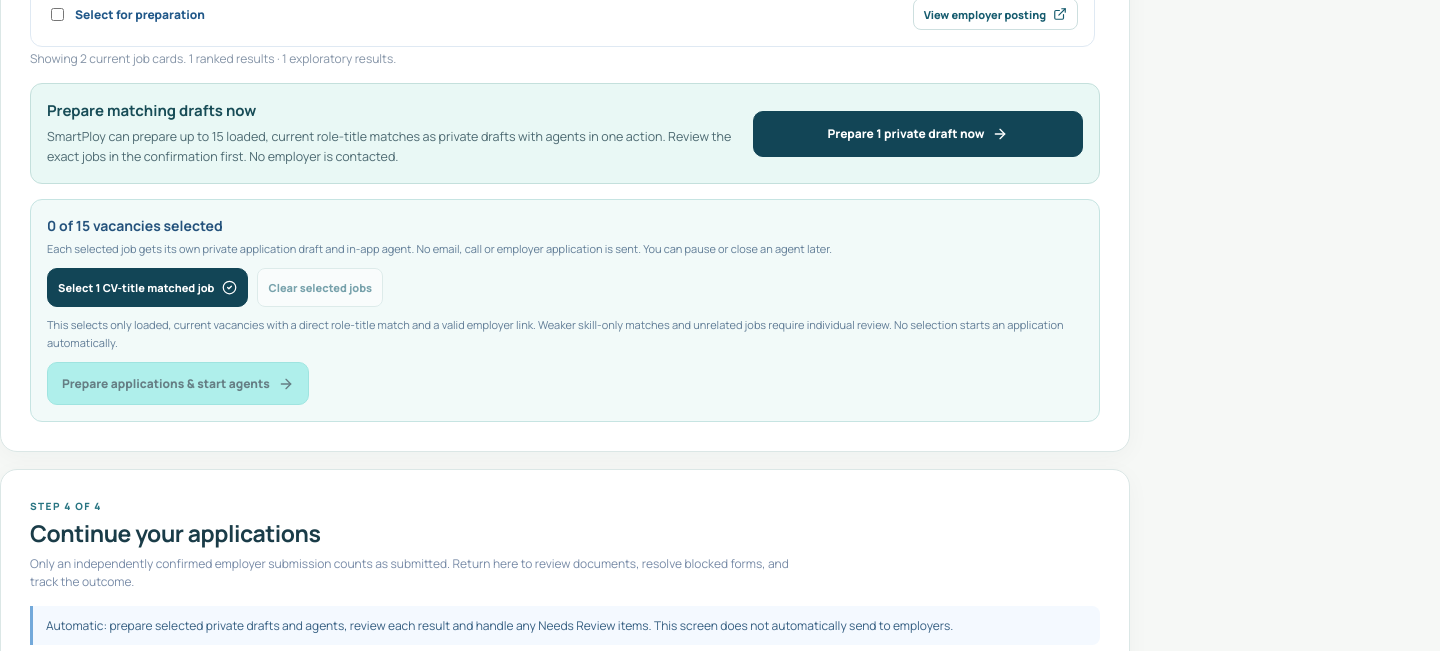
Test: SP21 application journey › SP75: changing search during an active batch asks to stop after current job
(page scrolled)
Click the button "Select 1 CV-title matched job": (148, 288) x1=47 y1=268 x2=248 y2=307
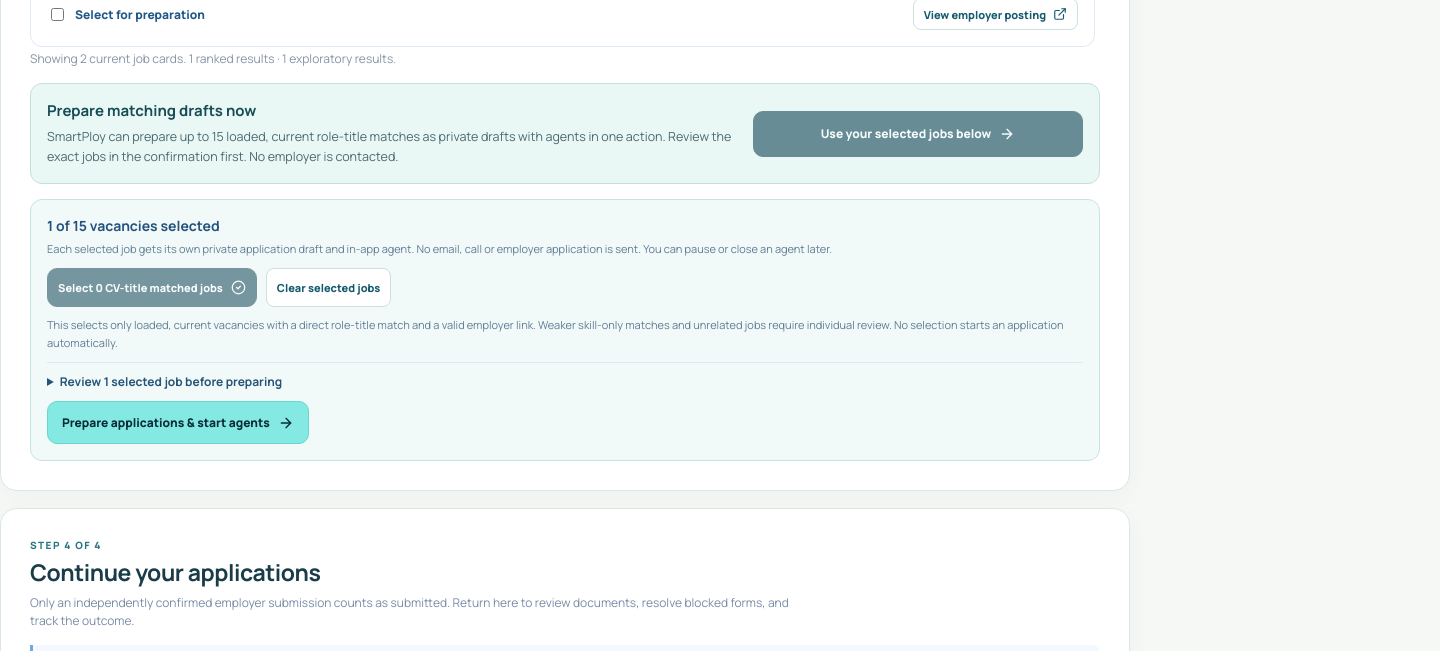
Click the button "Prepare applications & start agents": (178, 423) x1=47 y1=401 x2=309 y2=444
(page scrolled)
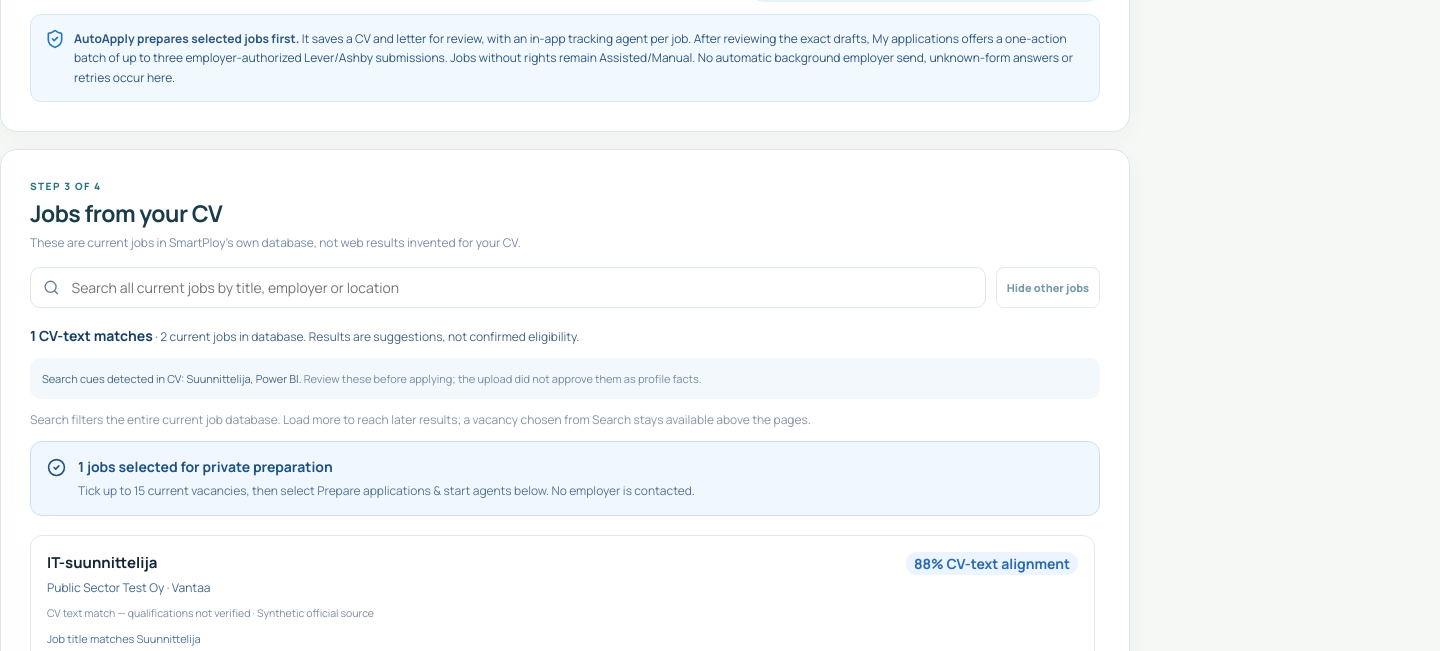
In the search field named "Filter matching jobs": (521, 287) x1=70 y1=277 x2=973 y2=298, type "New vacancy"
(page scrolled)
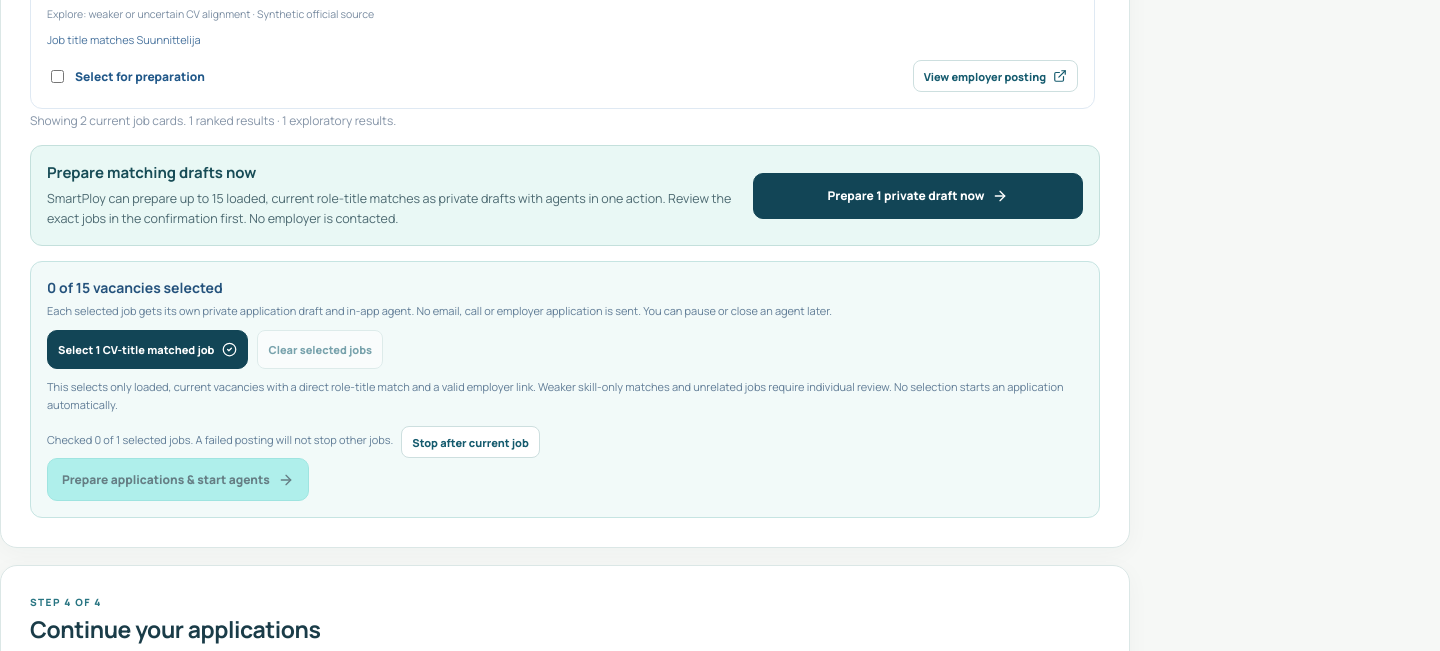
Check: the text "0 of 15 vacancies selected" is shown, box x1=47 y1=278 x2=223 y2=297
